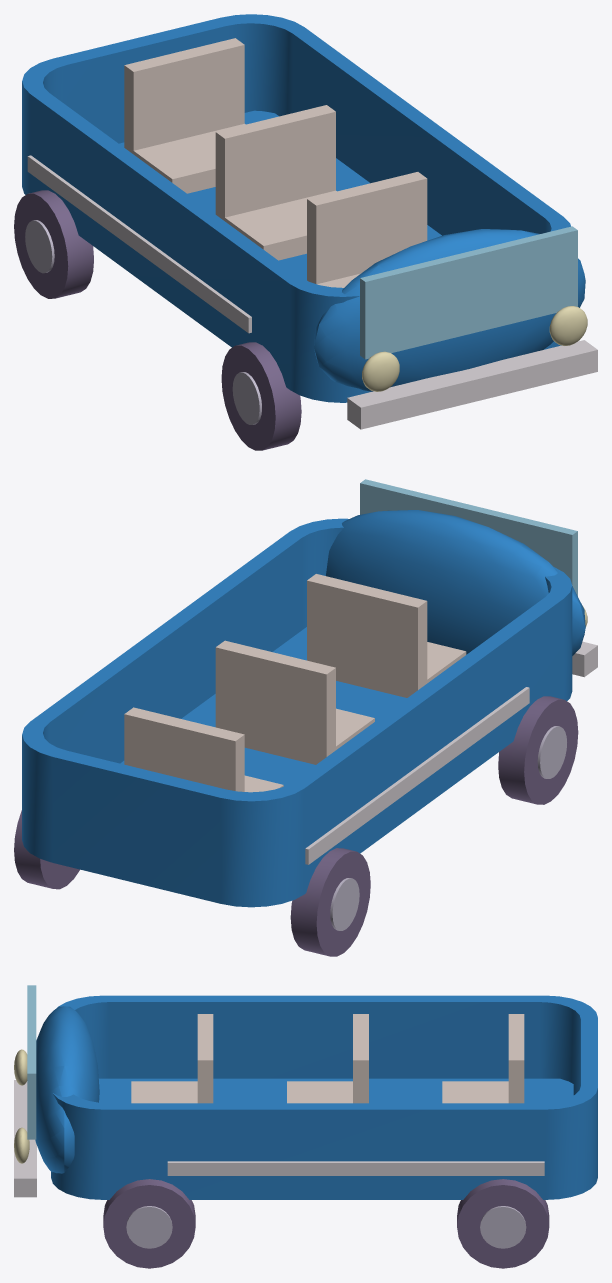
File: Bus_Blue.glb
3 renders of one model, top to bottom at view 1: azimuth 30°, elevation 25°; view 2: azimuth 150°, elevation 25°; view 3: azimuth 270°, elevation 25°, orthographic. The views are drawn at different scales.
Parts seen in each view (by area): view 1: Body, Wheel_1, Wheel_3; view 2: Body, Wheel_3, Wheel_1, Wheel_4; view 3: Body, Wheel_2, Wheel_4.
Boxes of the visible parts, x1,y1,x2,y2 form: Body: (22, 14, 597, 429); Wheel_1: (221, 342, 301, 450); Wheel_3: (14, 190, 93, 298); Body: (22, 479, 597, 907); Wheel_3: (290, 848, 370, 956); Wheel_1: (498, 696, 578, 804); Wheel_4: (14, 810, 79, 889); Body: (14, 985, 597, 1199); Wheel_2: (103, 1179, 195, 1268); Wheel_4: (457, 1179, 549, 1268).
Bounding box in the file's own units: 2.49 × 1.63 × 4.81.
